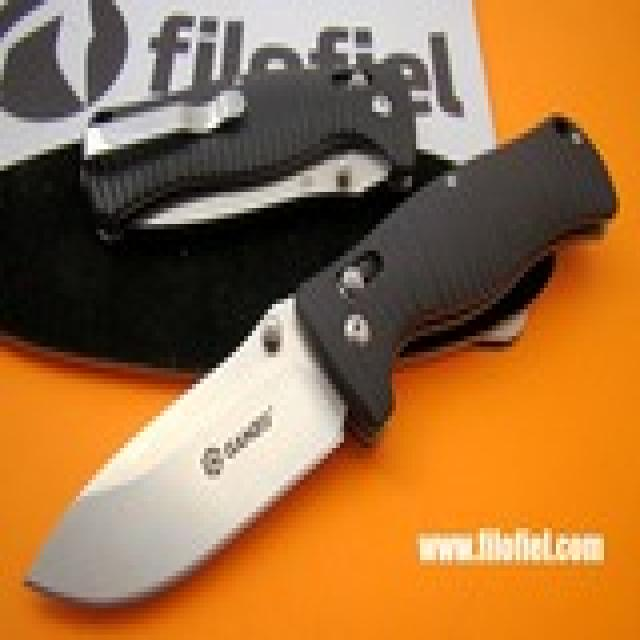Knife: (17, 98, 620, 628)
